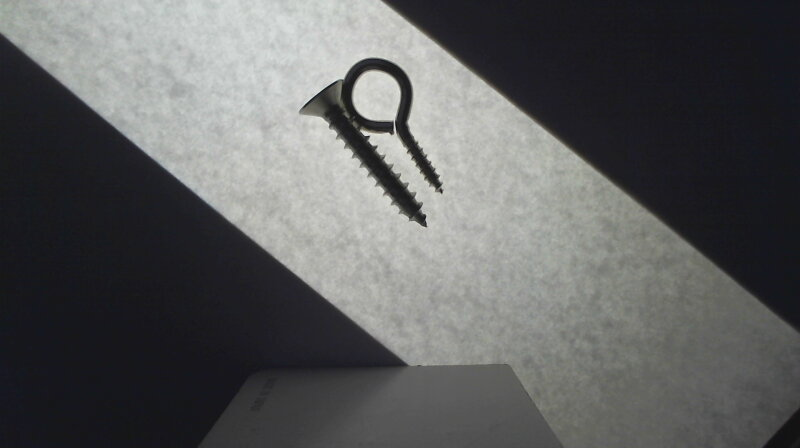O001: (336, 56, 445, 192)
S001: (297, 78, 429, 228)
